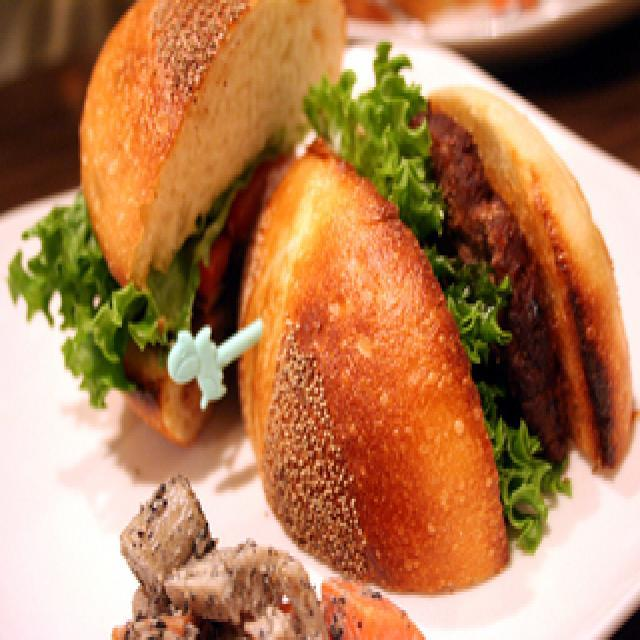Hamburger: (32, 0, 329, 436)
